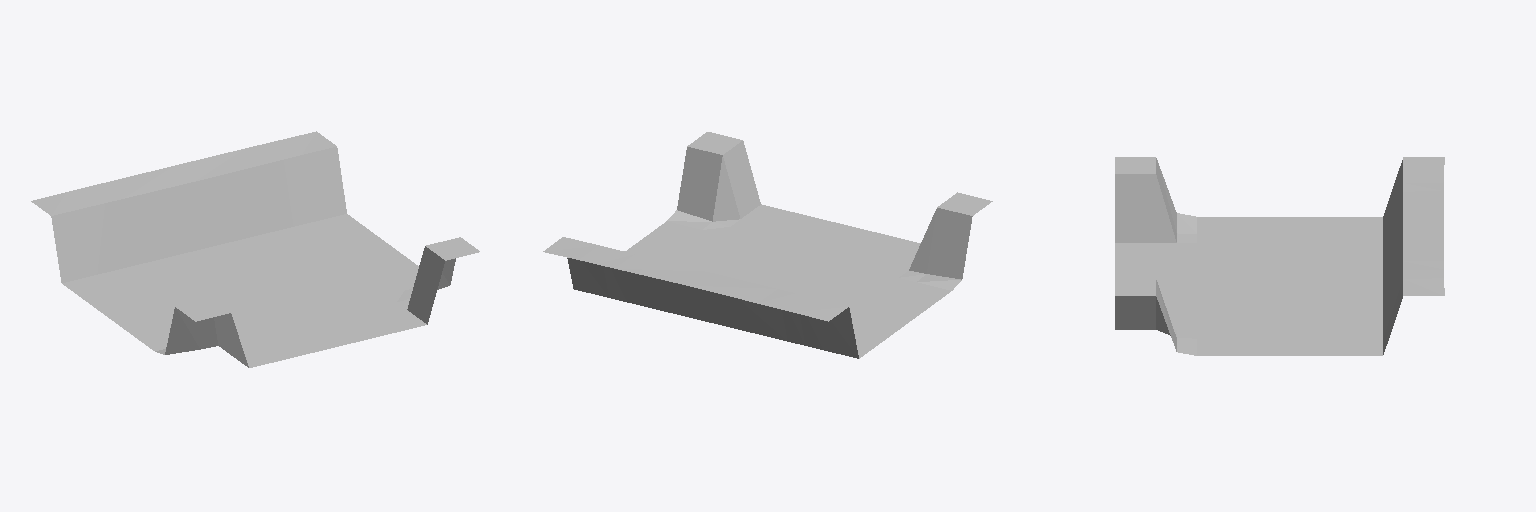
File: predioT.obj
3 views of the same model, side by side, from view 1: azimuth 30°, elevation 25°; view 2: azimuth 150°, elevation 25°; view 3: azimuth 270°, elevation 25° (orthographic).
Parts seen in each view (by area): view 1: Plane; view 2: Plane; view 3: Plane.
Boxes of the visible parts, box(x1,y1,x2,y2) form: Plane: box(31, 131, 479, 367); Plane: box(543, 132, 992, 358); Plane: box(1115, 157, 1444, 355).
Bounding box in the file's own units: 2 × 0.4069 × 2.